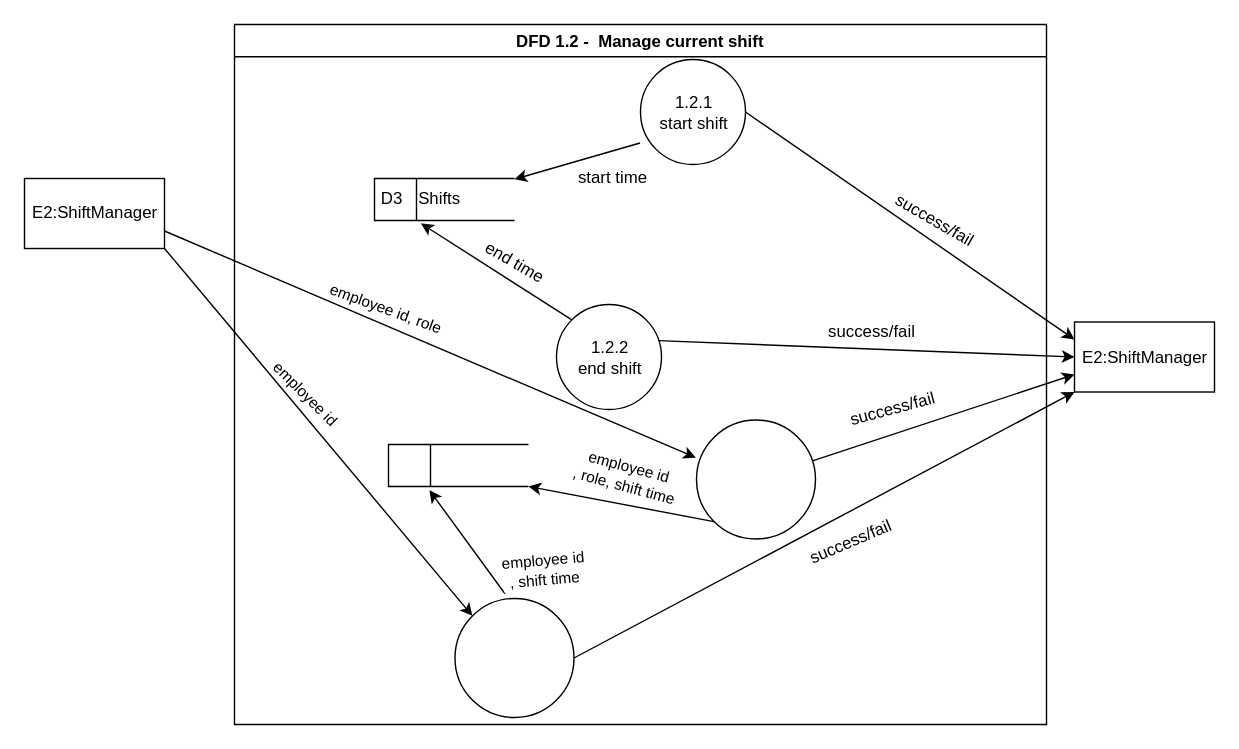
The diagram is 1239 pixels wide and 749 high, and some of its shapes have lost their labels. The shapes that lost their labels are listed below. From the top down, each one's centre as x and y in pixels, then its label:
At point (457, 464): "D2 EmployeesInShifts".
At point (755, 479): "1.2.3 add employee to shift".
At point (514, 657): "1.2.4 remove employee from shift".
